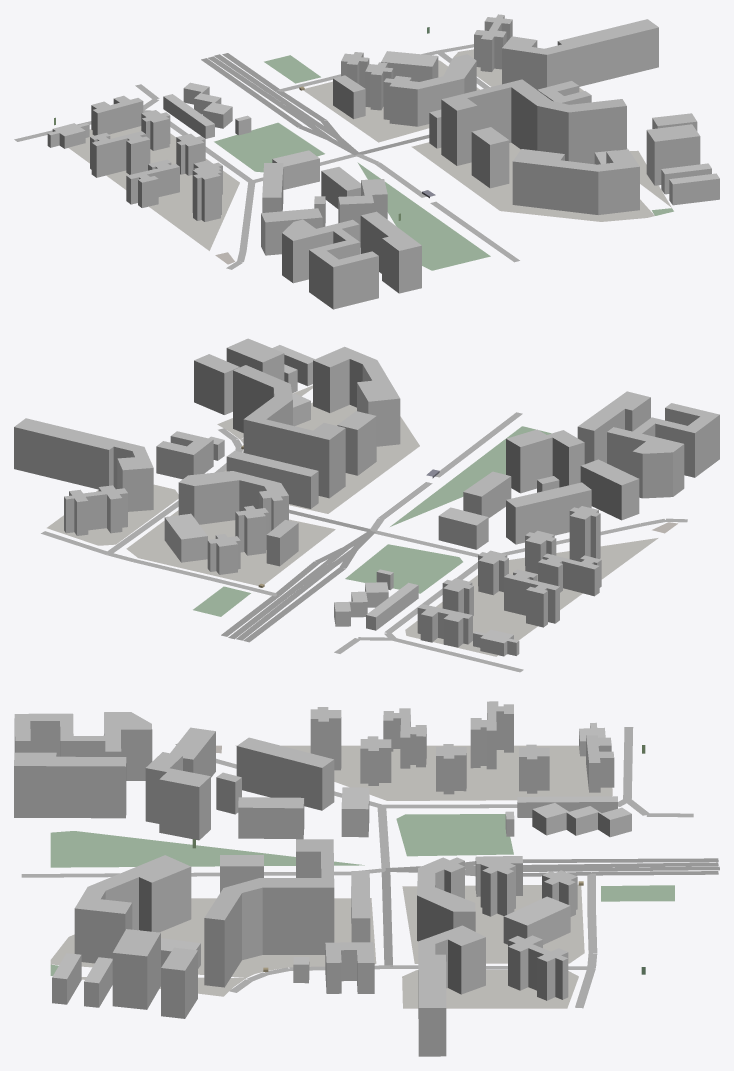
The picture shows the model from 3 angles, top to bottom: view 1: azimuth 30°, elevation 25°; view 2: azimuth 150°, elevation 25°; view 3: azimuth 270°, elevation 25°; orthographic projection. The views are drawn at different scales.
Size of the model in its own units: 627 by 60.33 by 566.
